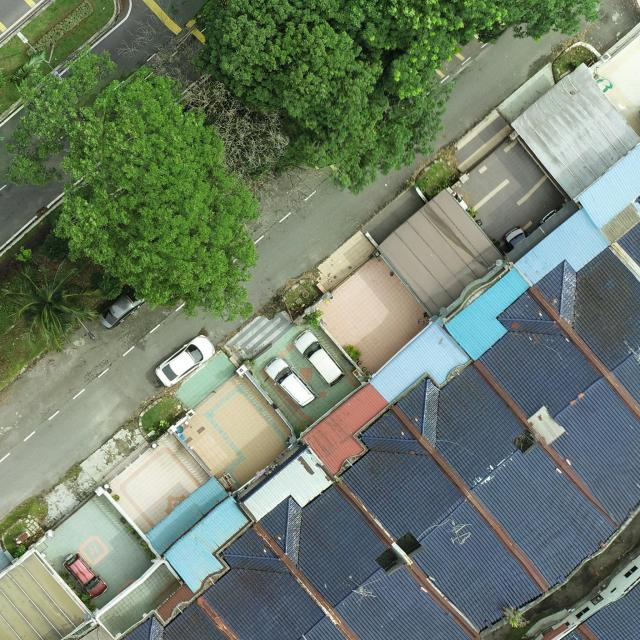Tree: (2, 44, 262, 322), (192, 0, 458, 196), (1, 258, 100, 354)
